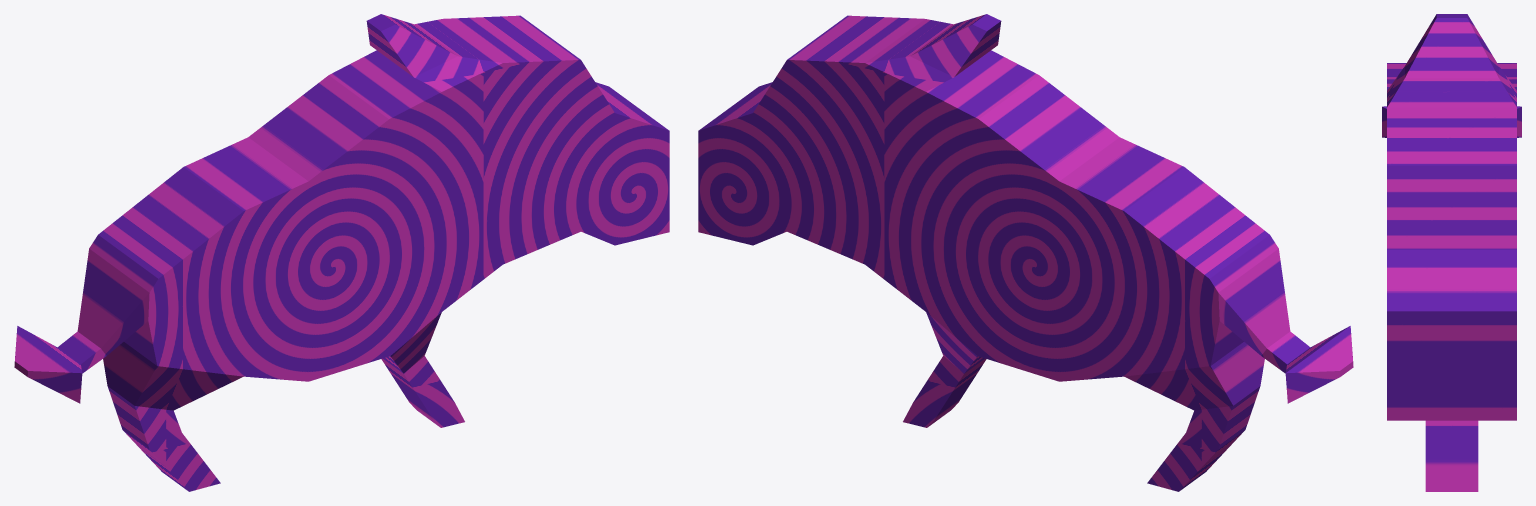
The model's file is enemy_boar.fbx.
3 views of the same model, side by side, from view 1: azimuth 30°, elevation 25°; view 2: azimuth 150°, elevation 25°; view 3: azimuth 270°, elevation 25° (orthographic). The views are drawn at different scales.
Parts seen in each view (by area): view 1: mesh_boar; view 2: mesh_boar; view 3: mesh_boar.
Boxes of the visible parts, x1,y1,x2,y2 form: mesh_boar: (14,14,669,491); mesh_boar: (698,14,1353,491); mesh_boar: (1382,14,1521,491).
Bounding box in the file's own units: 291 × 185 × 52.98.
